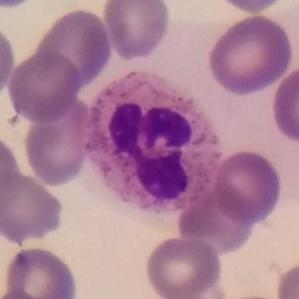Neutrophil: (78, 66, 228, 226)
RBC: (205, 13, 295, 96), (21, 94, 94, 188), (34, 5, 114, 89), (175, 185, 258, 256), (5, 49, 83, 123), (211, 148, 285, 225), (142, 234, 225, 298), (0, 167, 66, 245), (1, 243, 81, 299), (101, 0, 173, 62), (268, 64, 299, 147), (0, 131, 23, 213), (0, 17, 17, 99), (212, 0, 293, 15), (274, 260, 299, 298), (0, 286, 64, 298), (0, 0, 38, 10)
